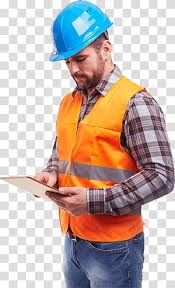hard hat: (48, 1, 113, 61)
high-vis: (56, 76, 144, 244)
